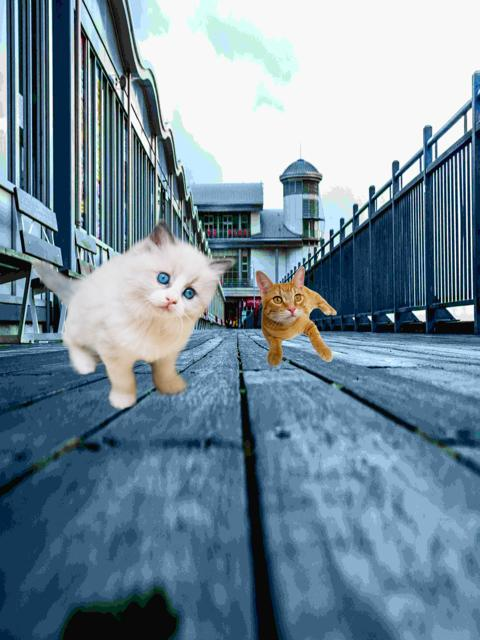cat: (10, 217, 249, 408), (257, 268, 335, 365)
